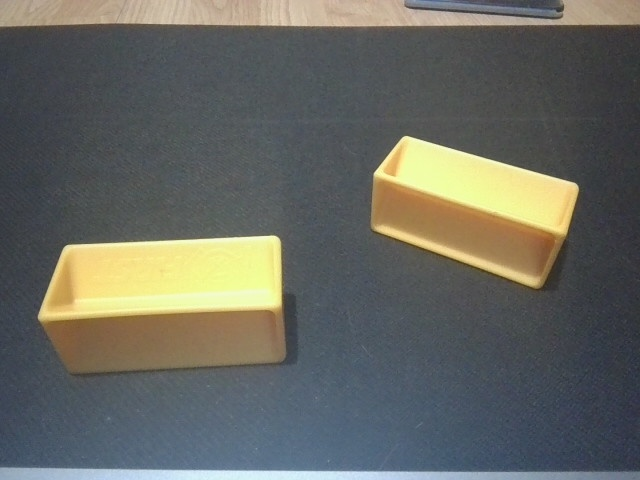YellowSample: (34, 233, 292, 375), (366, 133, 583, 294)
